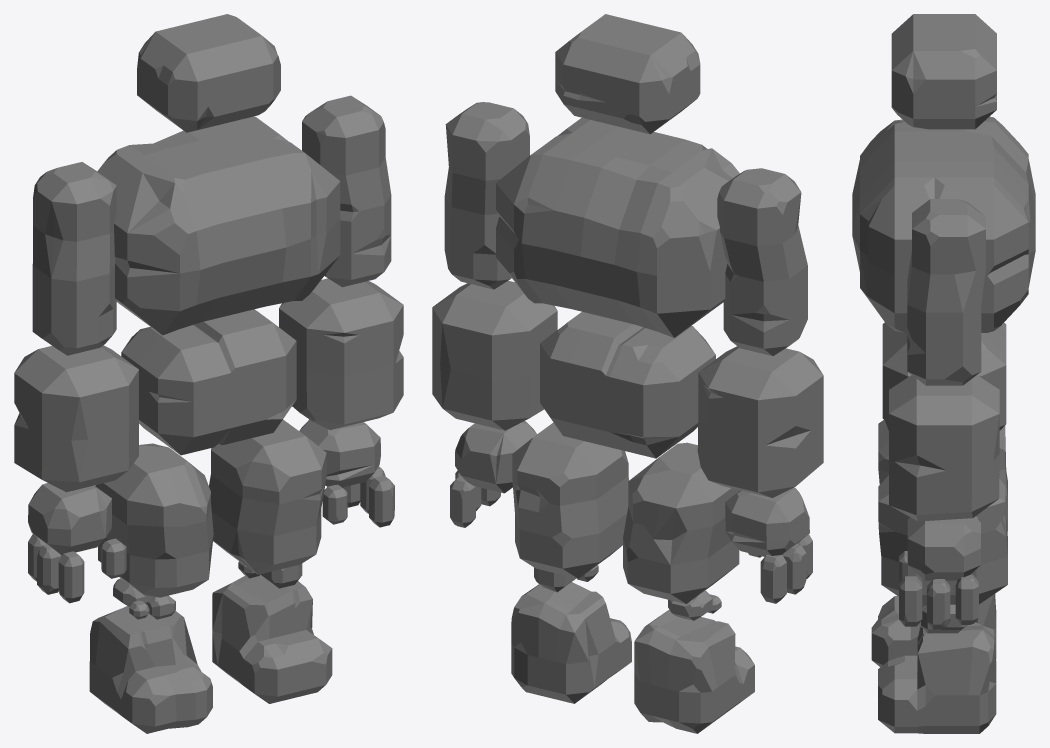
File: GolemChiseledStone.fbx
The picture shows the model from 3 angles, left to right: view 1: azimuth 30°, elevation 25°; view 2: azimuth 150°, elevation 25°; view 3: azimuth 270°, elevation 25°; orthographic projection.
Parts seen in each view (by area): view 1: ChiseledGreyChest, ChiseledGreyWaist, ChiseledGreyRForearm, ChiseledGreyLForeaarm, ChiseledGreyRShoulder, ChiseledGreyLHip, ChiseledGreyHead, ChiseledGreyRHip, ChiseledGreyRFoot, ChiseledGreyLFoot, ChiseledGreyLShoulder, ChiseledGreyRHand (+3 smaller); view 2: ChiseledGreyChest, ChiseledGreyWaist, ChiseledGreyRForearm, ChiseledGreyLForeaarm, ChiseledGreyLHip, ChiseledGreyRShoulder, ChiseledGreyRHip, ChiseledGreyHead, ChiseledGreyRFoot, ChiseledGreyLFoot, ChiseledGreyLShoulder, ChiseledGreyRHand (+3 smaller); view 3: ChiseledGreyChest, ChiseledGreyLForeaarm, ChiseledGreyLShoulder, ChiseledGreyHead, ChiseledGreyLFoot, ChiseledGreyLHand, ChiseledGreyLHip, ChiseledGreyWaist, ChiseledGreyRFoot, ChiseledGreyRHip, ChiseledGreyLKnee.
Part boxes in pixels (x1,y1,x2,y2): ChiseledGreyChest: (97,116,340,335); ChiseledGreyWaist: (121,309,296,455); ChiseledGreyRForearm: (14,345,138,492); ChiseledGreyLForeaarm: (279,278,403,429); ChiseledGreyRShoulder: (32,162,116,355); ChiseledGreyLHip: (209,419,326,574); ChiseledGreyHead: (137,14,280,132); ChiseledGreyRHip: (95,443,213,597); ChiseledGreyRFoot: (89,606,212,733); ChiseledGreyLFoot: (212,574,332,703); ChiseledGreyLShoulder: (302,95,391,287); ChiseledGreyRHand: (28,483,126,603); ChiseledGreyChest: (496,118,739,337); ChiseledGreyWaist: (540,311,715,458); ChiseledGreyRForearm: (697,346,823,497); ChiseledGreyLForeaarm: (432,280,557,430); ChiseledGreyLHip: (512,422,628,578); ChiseledGreyRShoulder: (717,168,807,356); ChiseledGreyRHip: (623,442,740,603); ChiseledGreyHead: (555,14,700,134); ChiseledGreyRFoot: (634,609,754,733); ChiseledGreyLFoot: (511,582,631,703); ChiseledGreyLShoulder: (444,102,529,289); ChiseledGreyRHand: (725,487,812,603); ChiseledGreyChest: (852,116,1035,332); ChiseledGreyLForeaarm: (889,375,999,521); ChiseledGreyLShoulder: (907,199,985,385); ChiseledGreyHead: (891,14,996,129); ChiseledGreyLFoot: (878,622,996,733); ChiseledGreyLHand: (899,516,980,629); ChiseledGreyLHip: (878,475,1007,606); ChiseledGreyWaist: (882,322,1006,430); ChiseledGreyRFoot: (871,594,996,667); ChiseledGreyRHip: (878,420,1007,530); ChiseledGreyLKnee: (921,604,967,633).
Bounding box in the file's own units: 16.79 × 29.33 × 7.39.
1 material, 1 textured.
